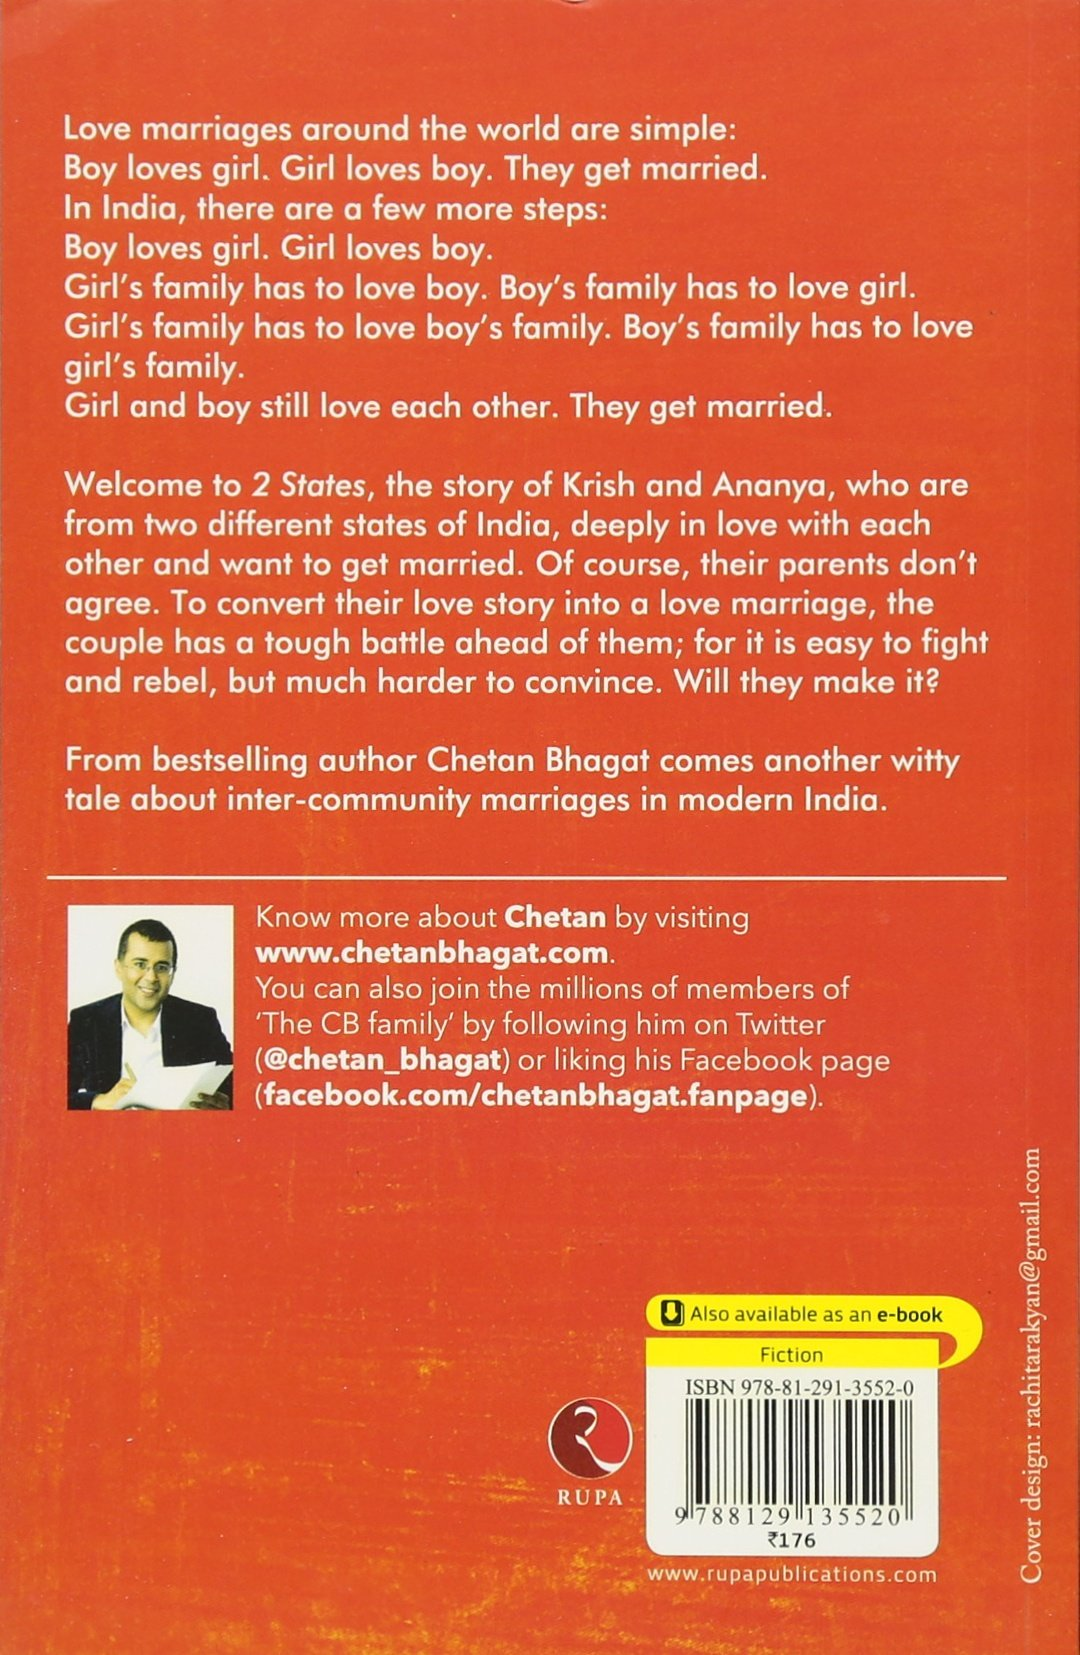barcode: (678, 1397, 920, 1536)
